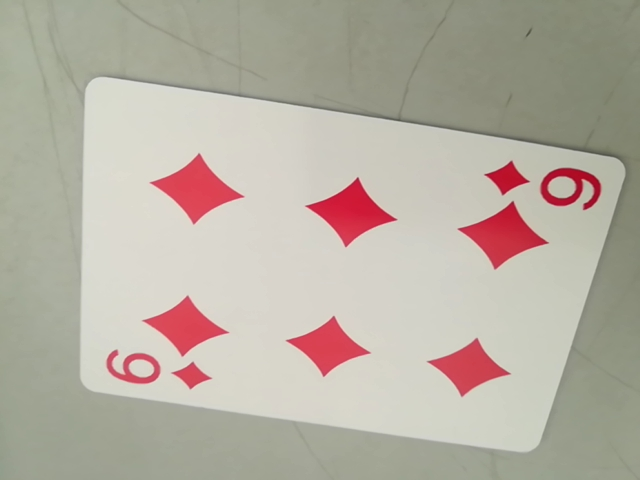fk 6: (482, 157, 605, 209), (96, 347, 218, 397)
